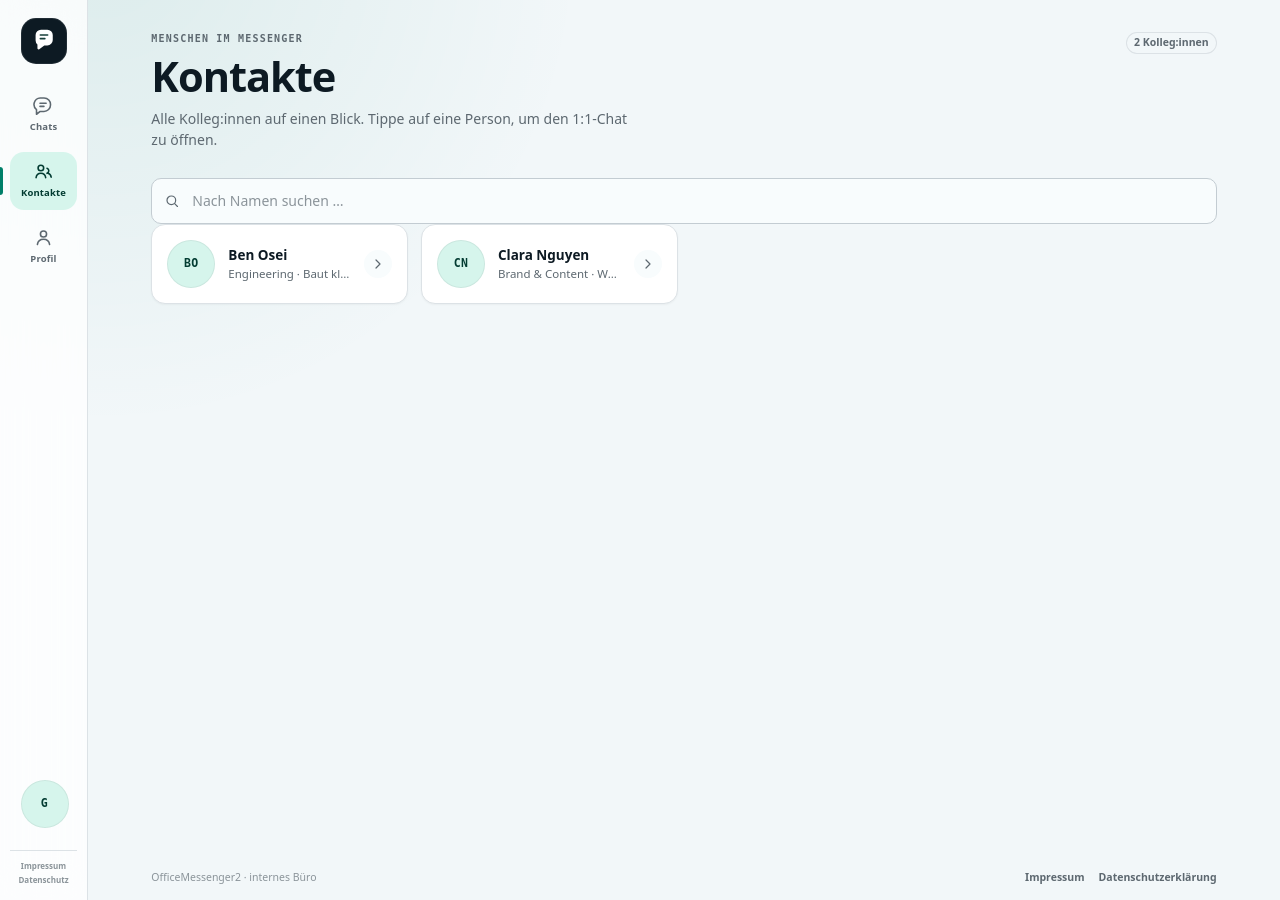
it: ContactsPage › shows the German error message in a banner when opening a chat fails
The image size is (1280, 900).
Click the button "Ben Osei" at [280, 264], box [151,224,408,304]
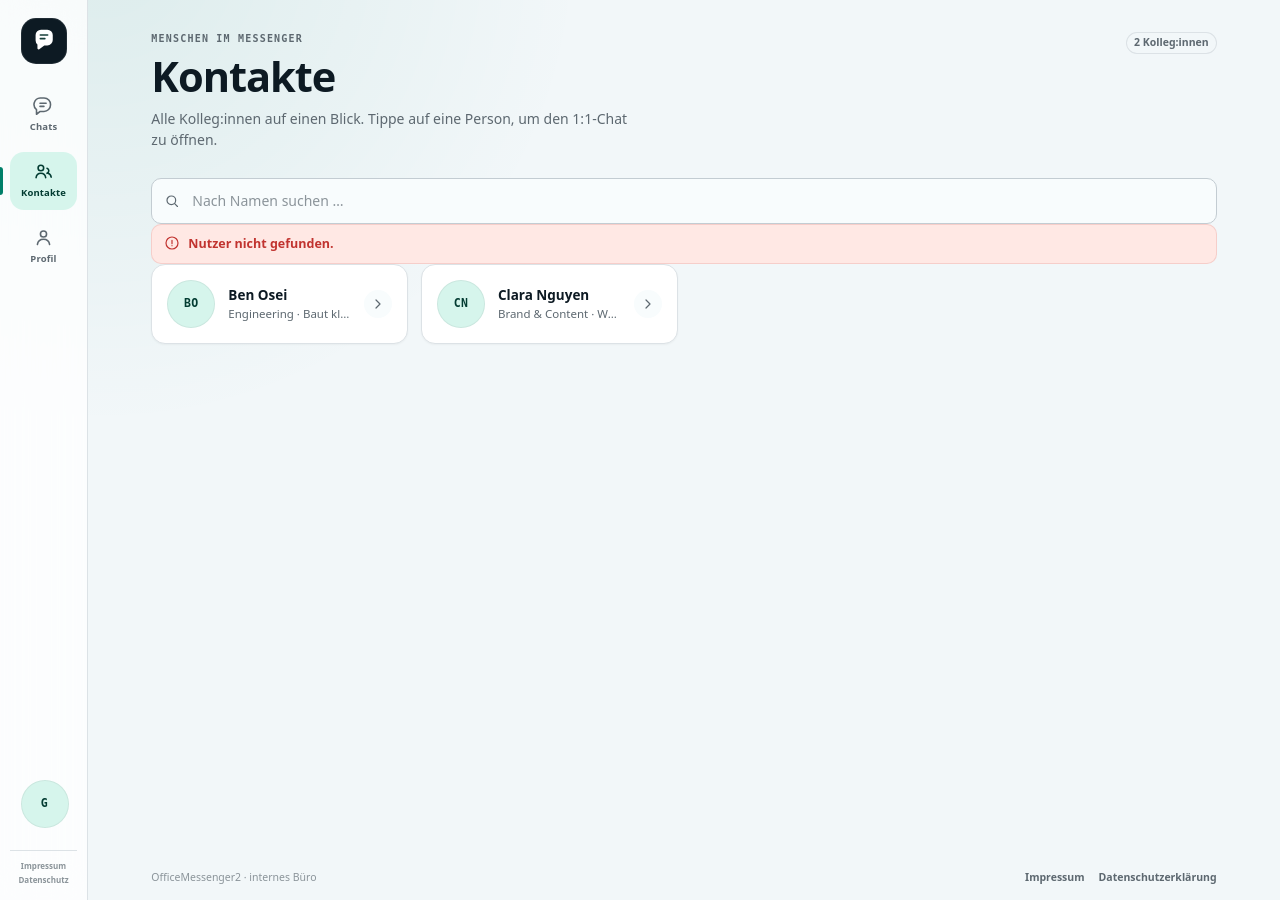
Result: the message reads "Nutzer nicht gefunden." at [188,235,334,252]
